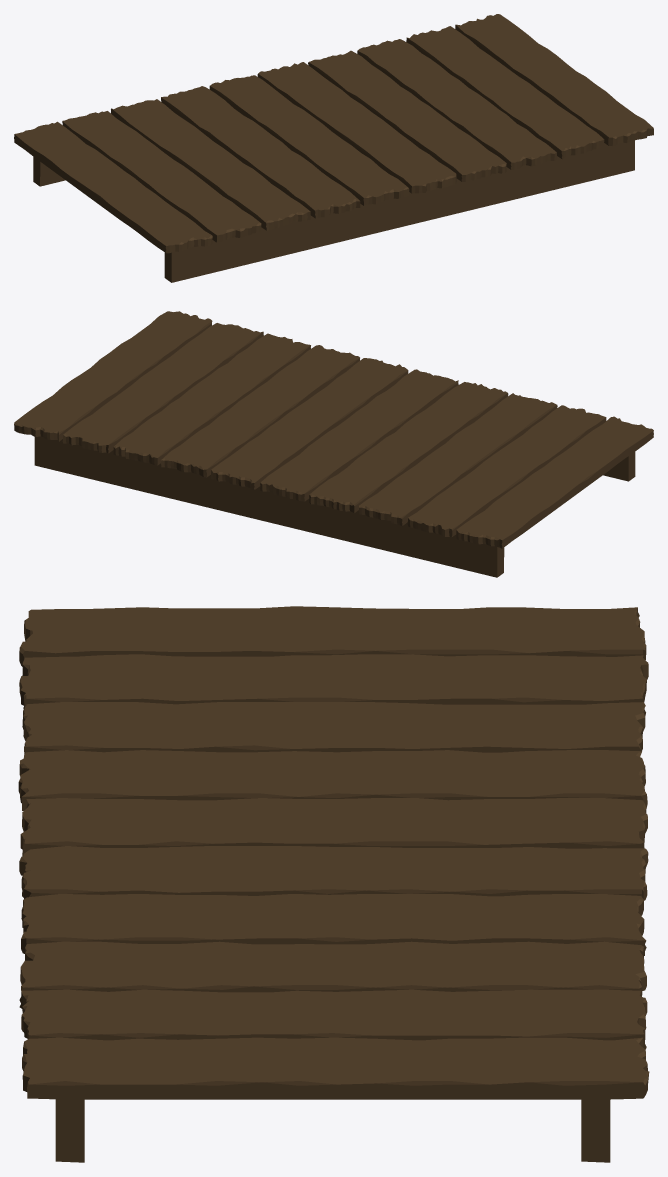
Rendered from dock_part_planks.fbx.
3 renders of one model, top to bottom at view 1: azimuth 30°, elevation 25°; view 2: azimuth 150°, elevation 25°; view 3: azimuth 270°, elevation 25°, orthographic. The views are drawn at different scales.
Parts seen in each view (by area): view 1: Cube; view 2: Cube; view 3: Cube.
Boxes of the visible parts, x1=… form: Cube: x1=14, y1=14, x2=653, y2=282; Cube: x1=14, y1=311, x2=653, y2=577; Cube: x1=18, y1=606, x2=649, y2=1162.
Size of the model in its own units: 545 by 50.02 by 306.
